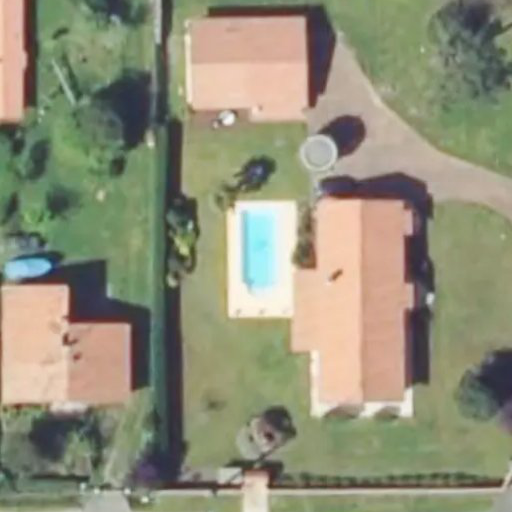pool: (233, 203, 278, 280)
